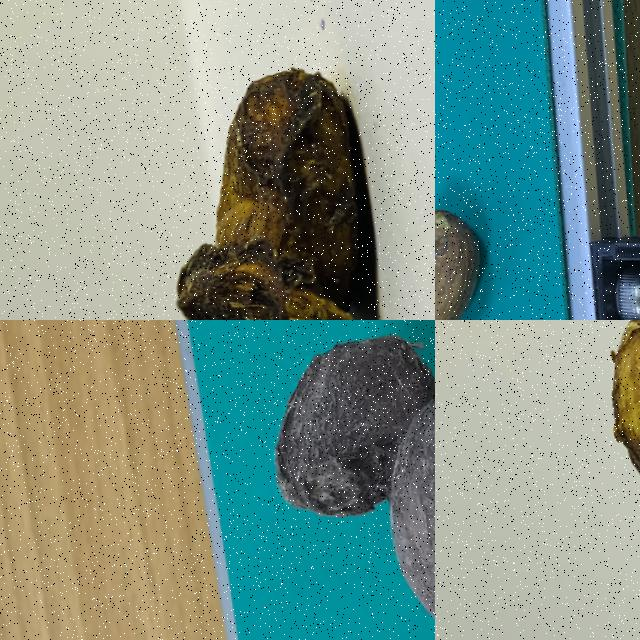Agglomerated_cocoabeans: (101, 27, 434, 319), (225, 320, 434, 639), (525, 320, 639, 639)
Fine_cocoabeans: (435, 146, 524, 319)
